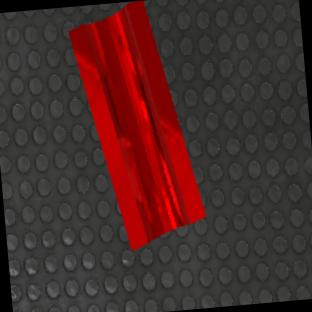objects: (63, 0, 212, 254)
